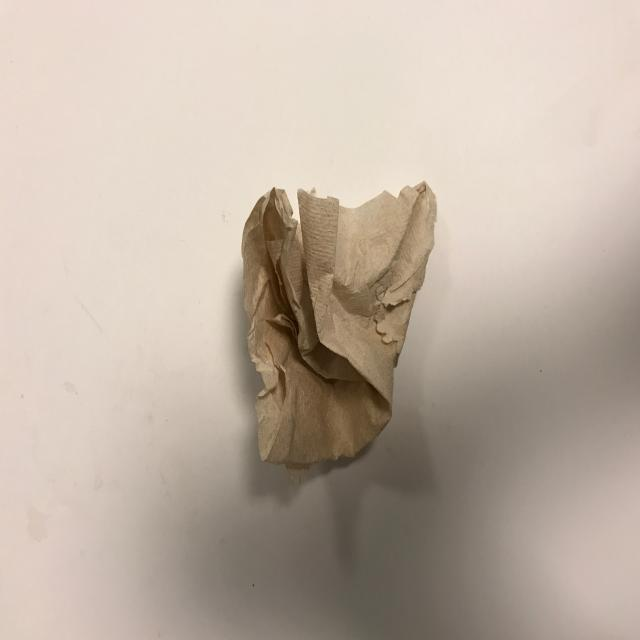trash: (241, 180, 438, 474)
